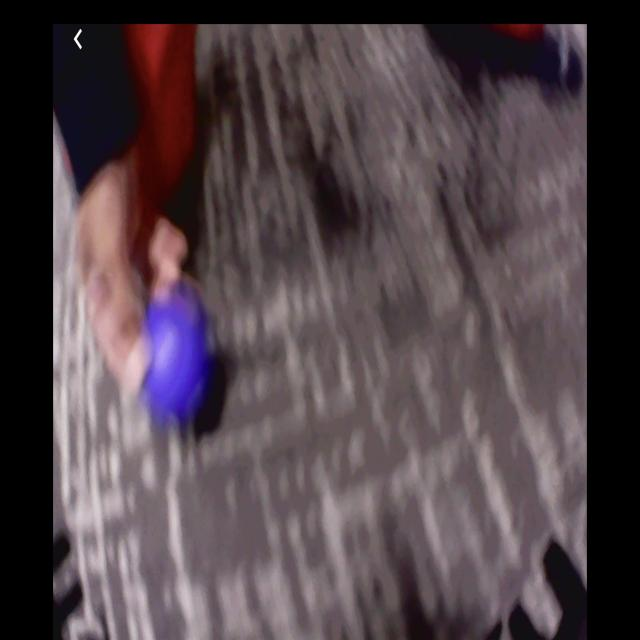ball: (142, 296, 219, 416)
